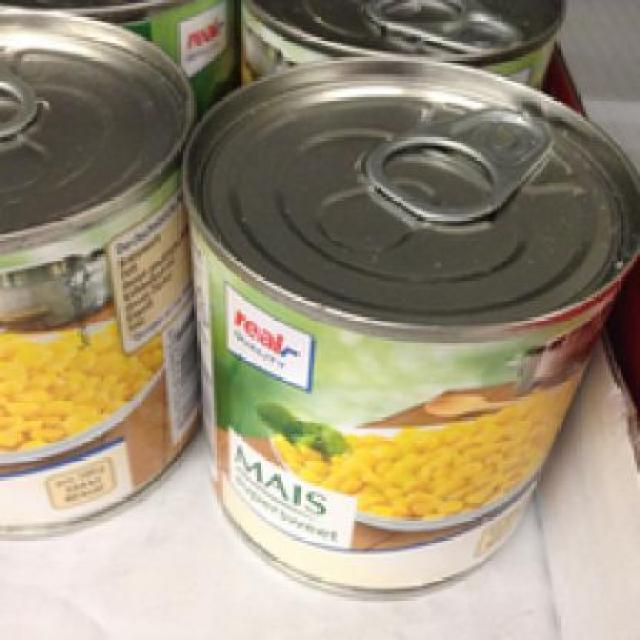Corn: (174, 54, 637, 597), (0, 4, 192, 538)
